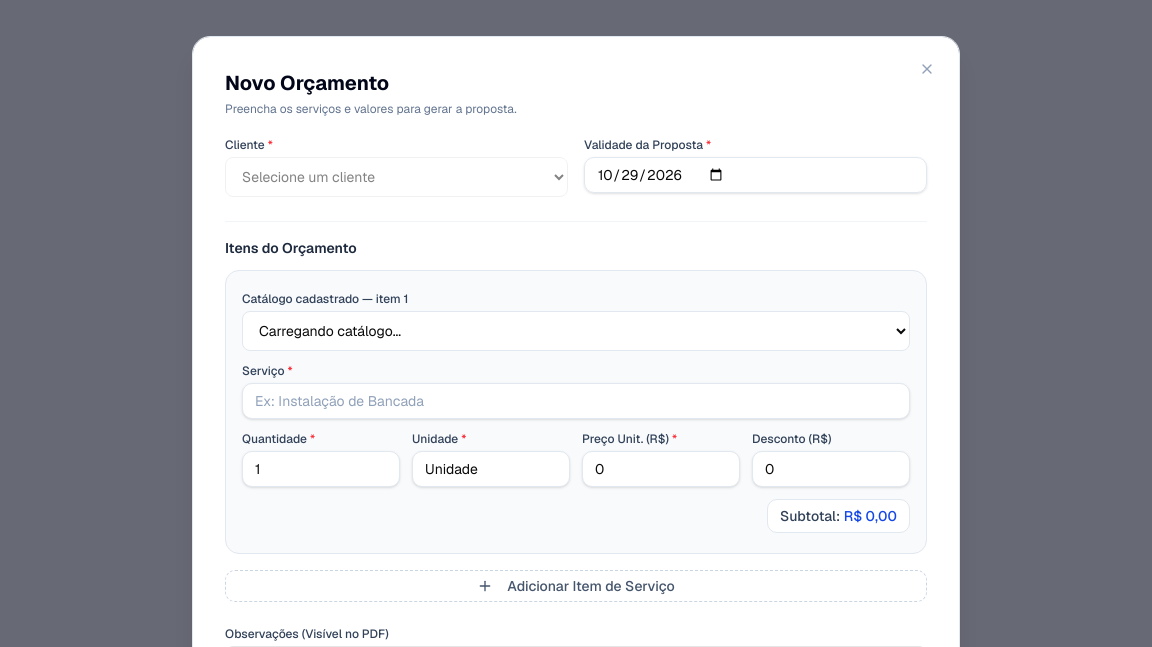
it: QuotationModal › calculates total price correctly when quantities, prices and discounts change
Replace the text in the number field labelled "Quantidade *" with "2" at (321, 469), box [242, 451, 400, 487]
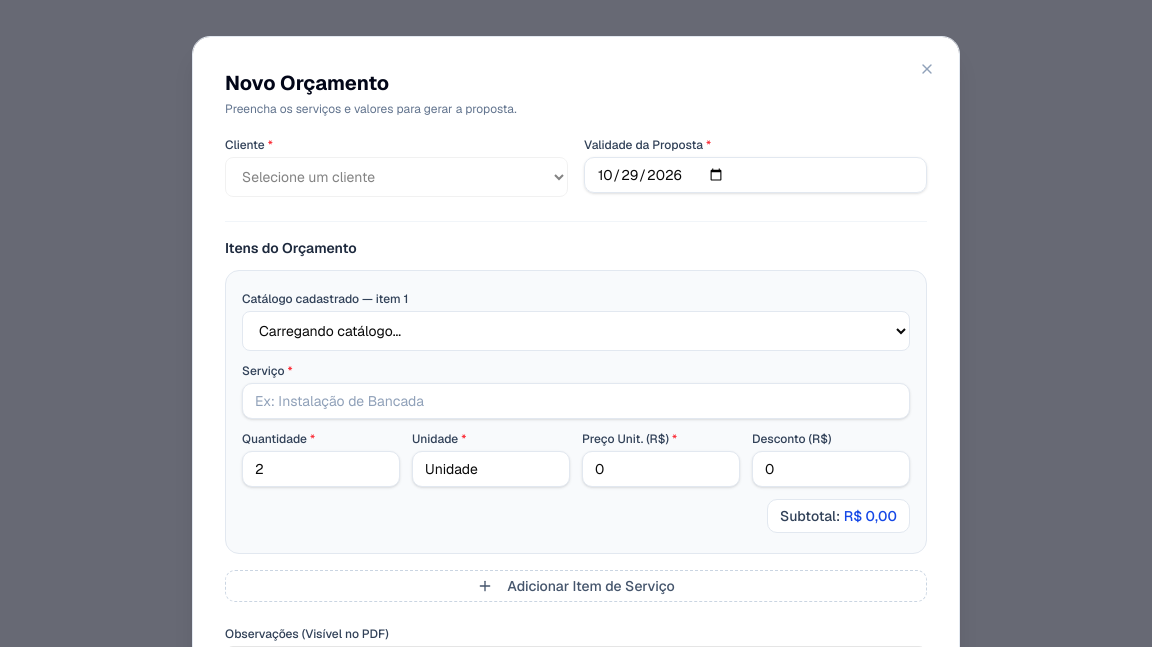
Replace the text in the number field labelled "Preço Unit. (R$) *" with "150" at (661, 469), box [582, 451, 740, 487]
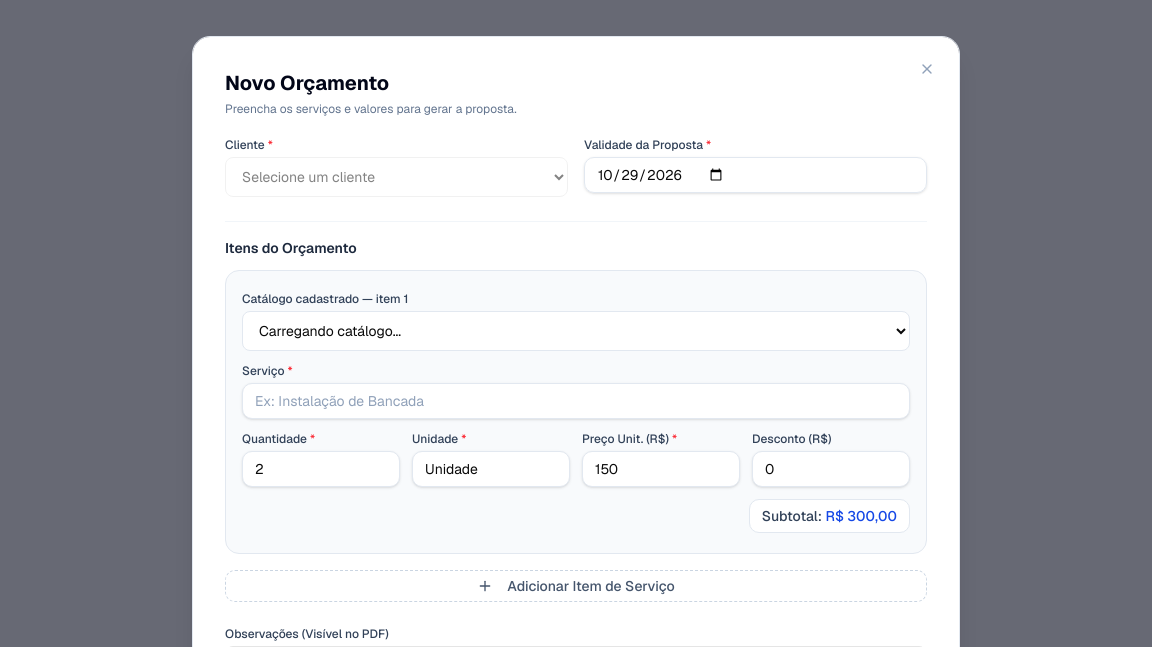
Replace the text in the number field labelled "Desconto (R$)" with "50" at (831, 469), box [752, 451, 910, 487]
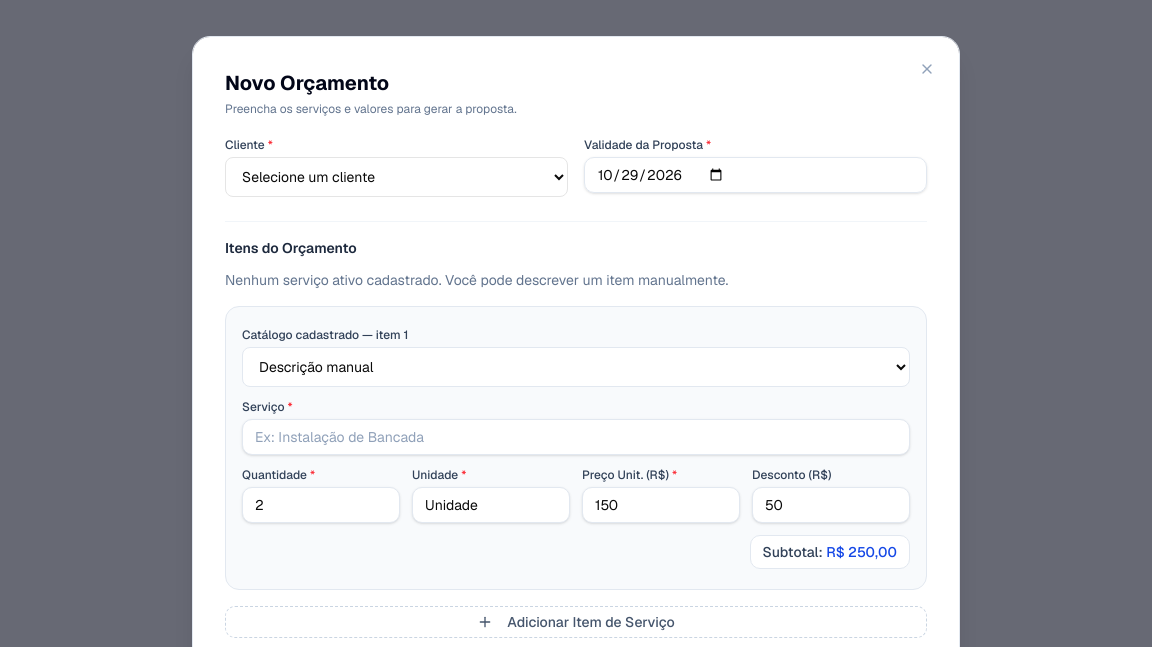
Check: the text "R$ 250,00" is shown, box [826, 543, 897, 561]
